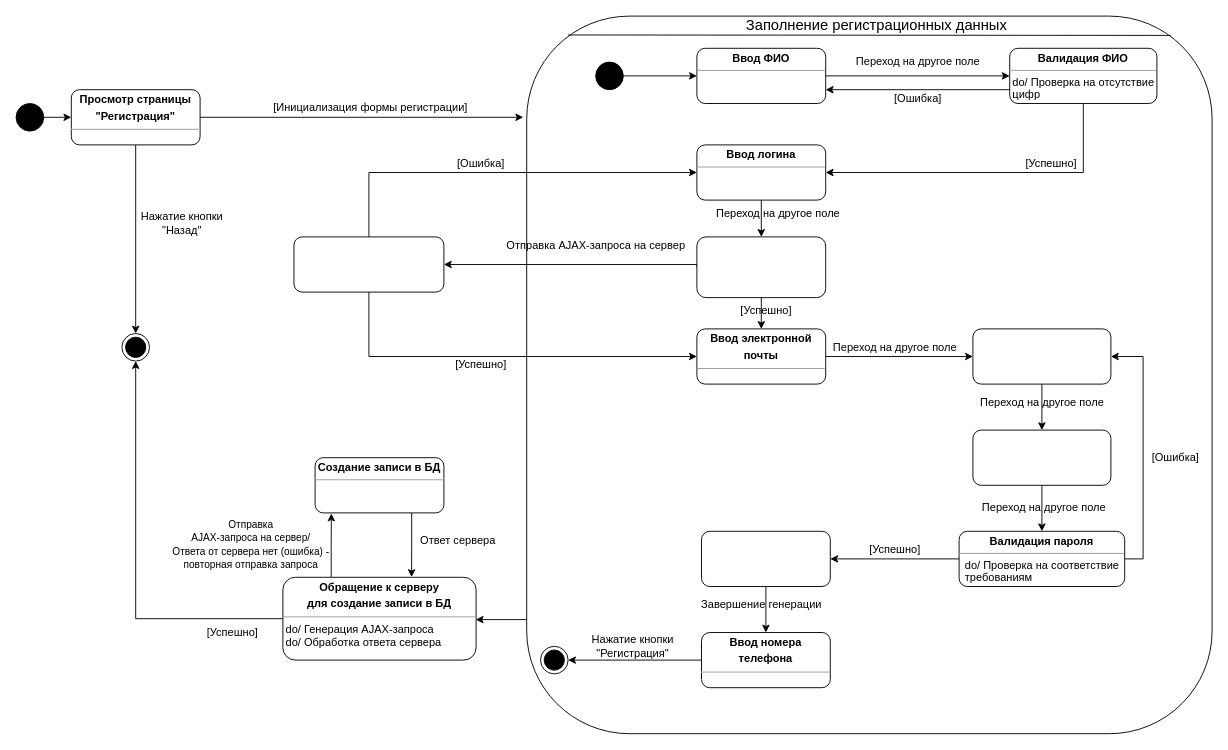
The diagram is 1228 pixels wide and 750 high, and some of its shapes have lost their labels. The box of each missing label's shape, as (x1, y1, x2, y2) in pixels:
Валидация логина do/ Ввод логина do/ Валидация логина: (696, 236, 826, 298)
Ввод пароля: (972, 328, 1111, 384)
Генерация маски на номер телефона: (701, 530, 830, 586)
Подтверждение пароля: (972, 429, 1111, 485)
Проверка логина на уникальность на сервере: (293, 236, 444, 292)
